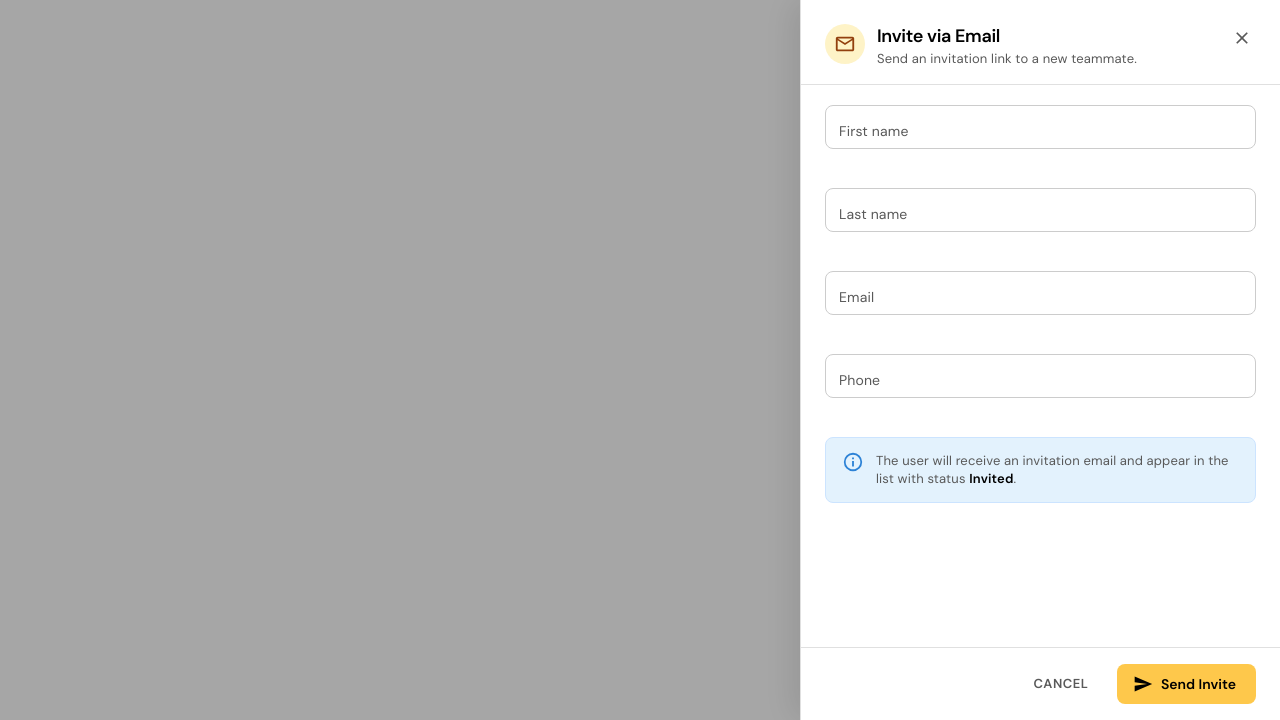
Test case: InviteUserDialog › shows API field and submit errors
Type "Ada" into the field with test id "invite-first-name-input" at (1040, 127), box [825, 105, 1256, 149]
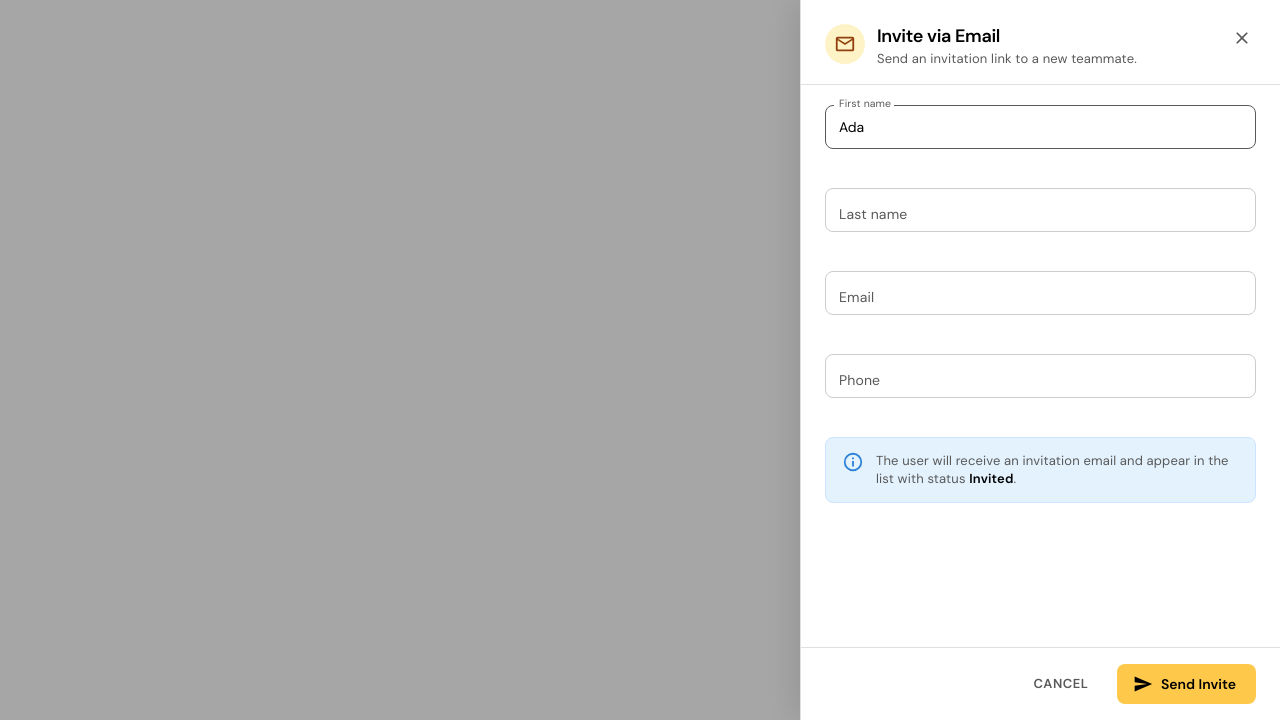
Type "Lovelace" into the field with test id "invite-last-name-input" at (1040, 210), box [825, 188, 1256, 232]
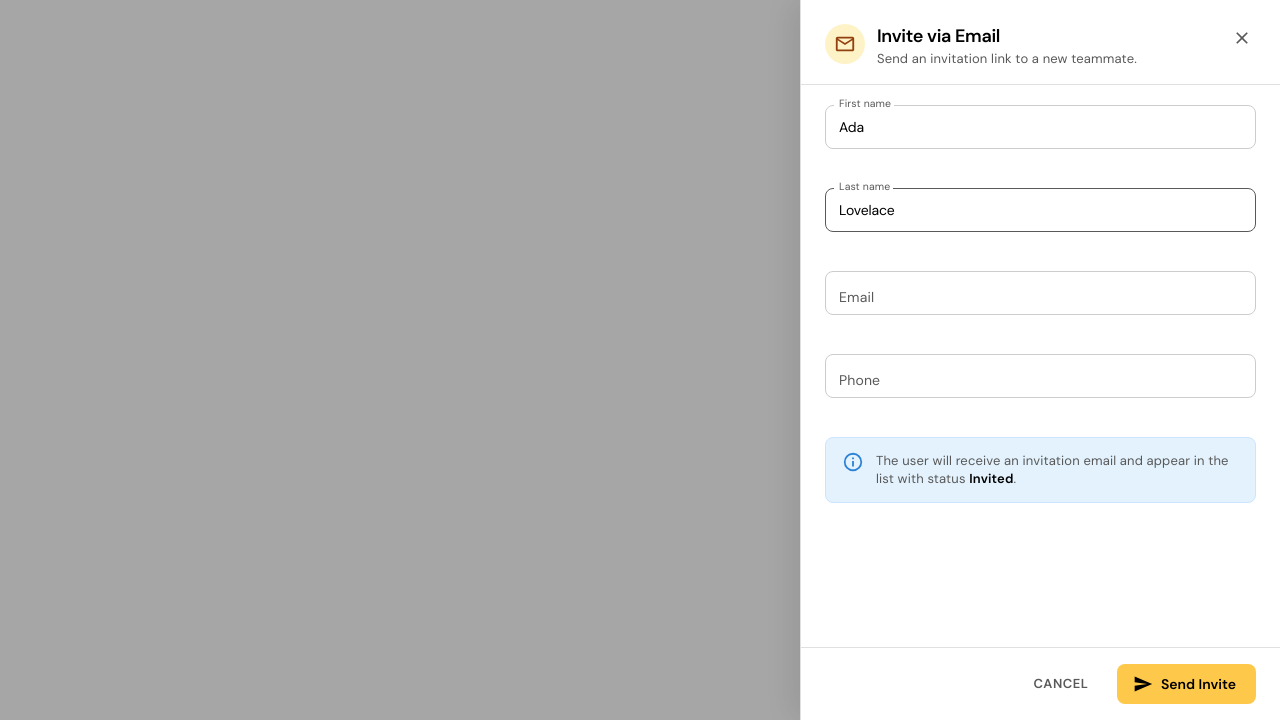
Type "ada@example.com" into the field with test id "invite-email-input" at (1040, 293), box [825, 271, 1256, 315]
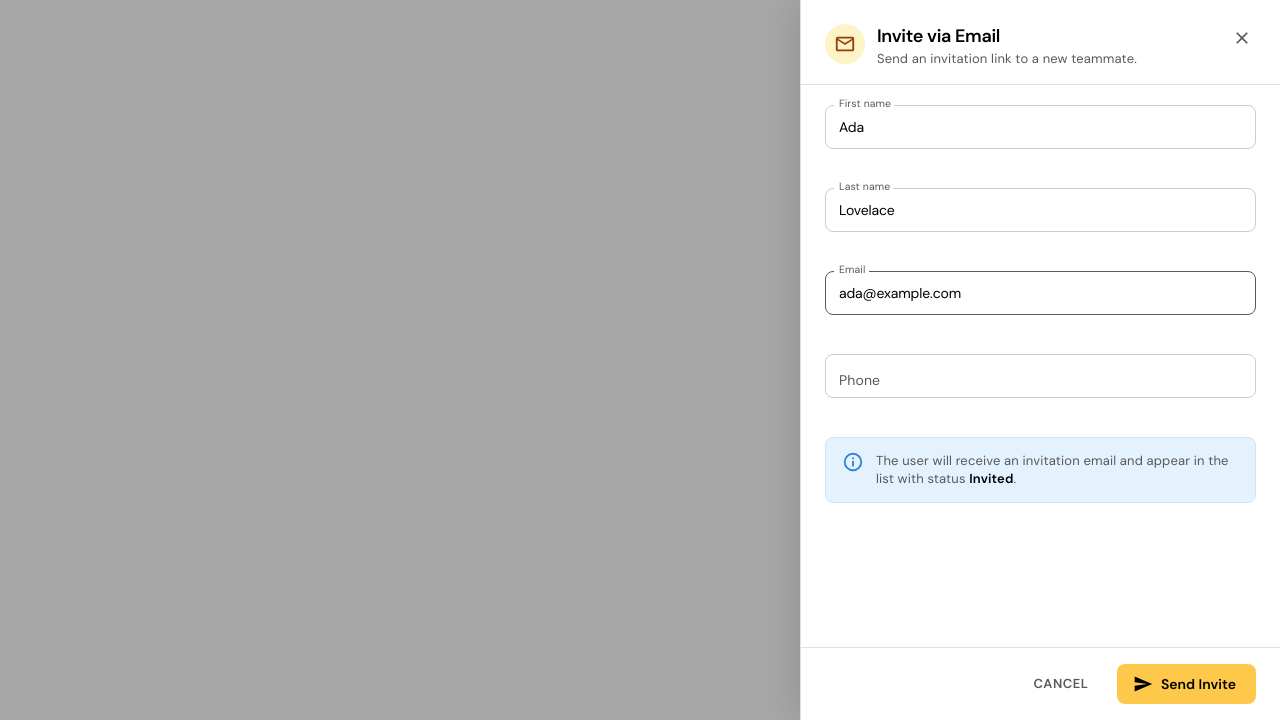
Type "9876543210" into the field with test id "invite-phone-input" at (1040, 376), box [825, 354, 1256, 398]
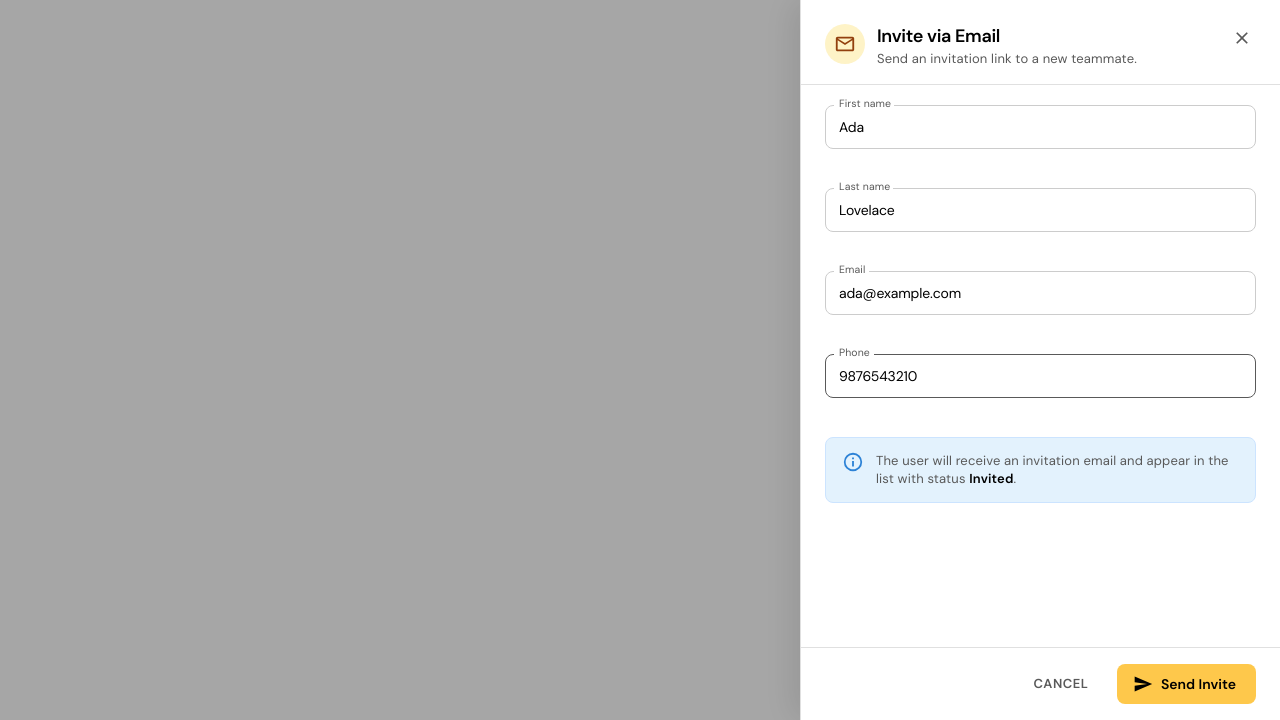
Click the button with test id "invite-send-btn" at (1186, 684), box [1117, 664, 1256, 704]
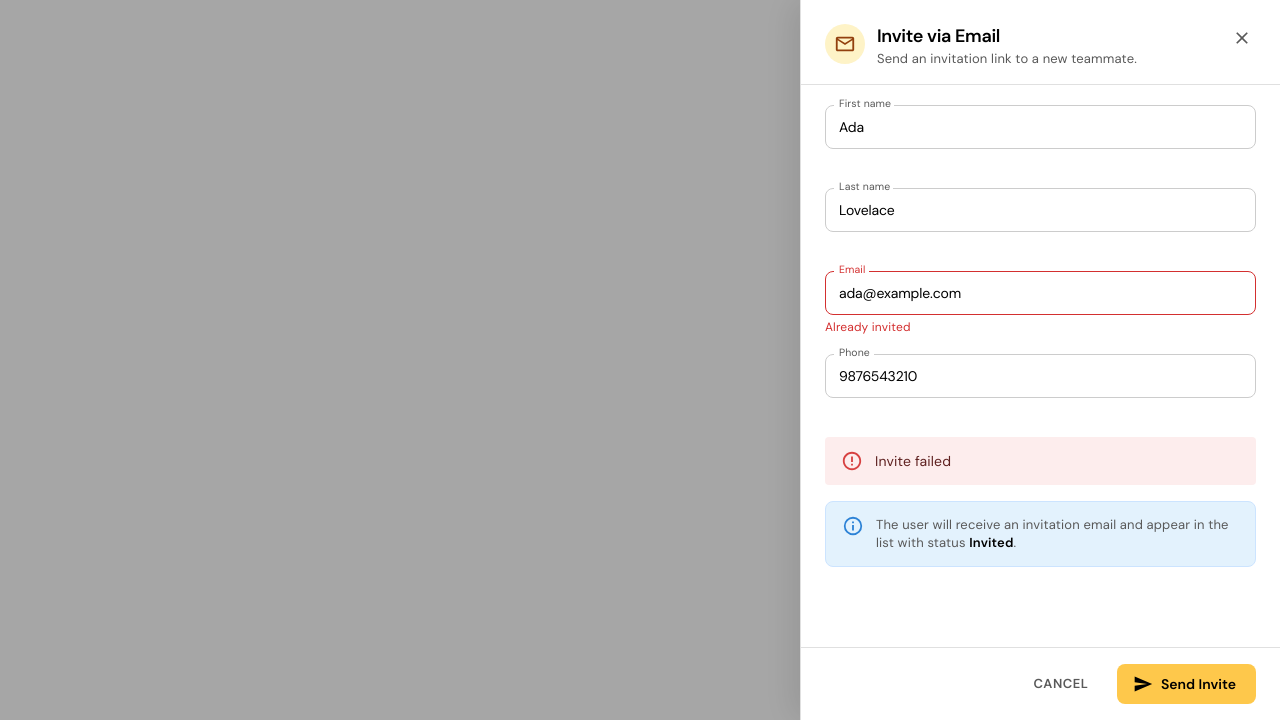
expect the text "Already invited" is shown: met, box [825, 319, 911, 335]
expect the text "Invite failed" is shown: met, box [875, 452, 951, 470]
